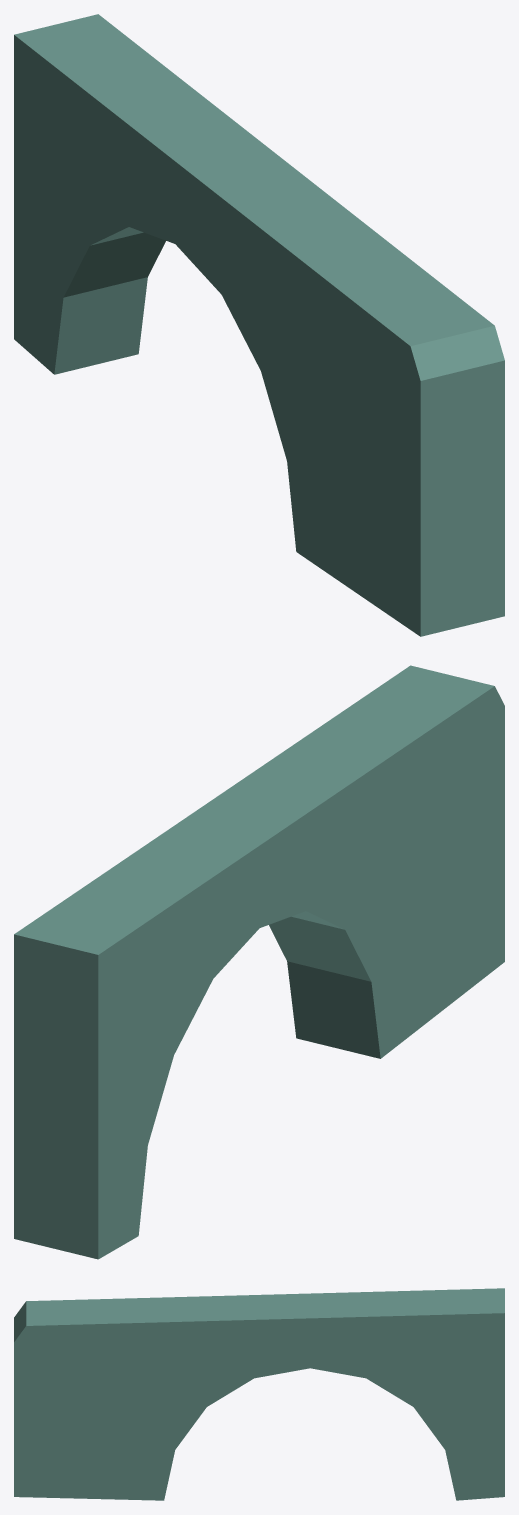
Rendered from fender_left.glb.
The picture shows the model from 3 angles, top to bottom: view 1: azimuth 30°, elevation 25°; view 2: azimuth 150°, elevation 25°; view 3: azimuth 270°, elevation 25°; orthographic projection. The views are drawn at different scales.
Parts seen in each view (by area): view 1: fender_left; view 2: fender_left; view 3: fender_left.
Boxes of the visible parts, x1,y1,x2,y2 form: fender_left: [14, 14, 504, 636]; fender_left: [14, 665, 504, 1259]; fender_left: [14, 1288, 504, 1500].
Bounding box in the file's own units: 0.145 × 0.51 × 1.21.
